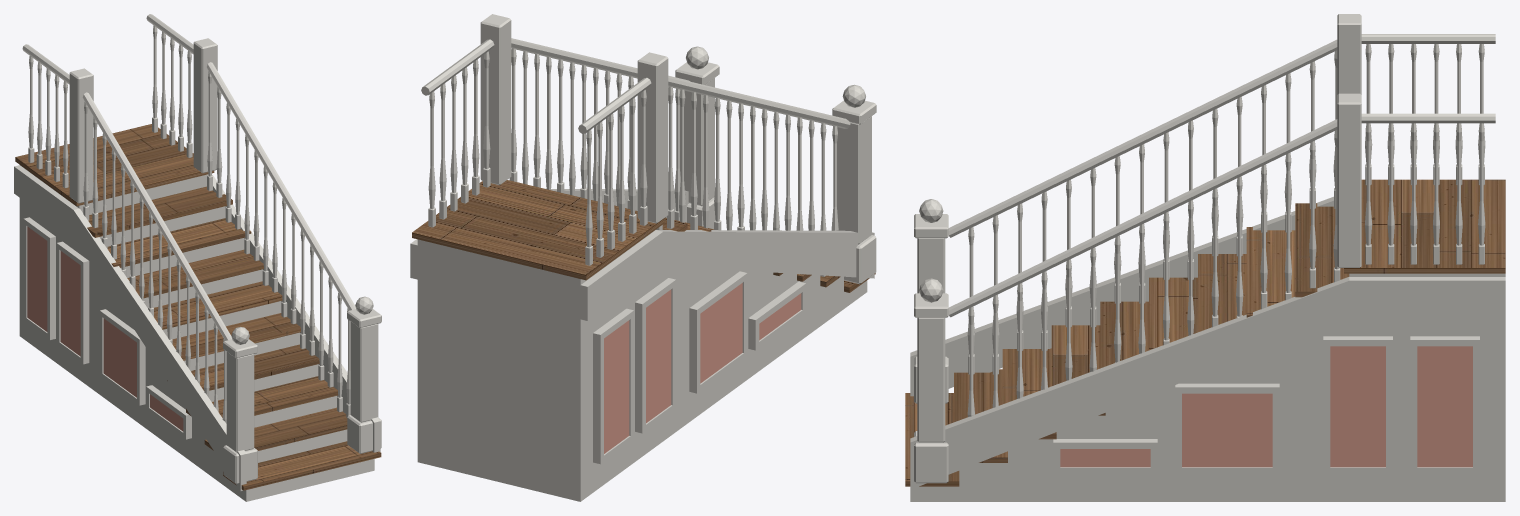
File: back_stoop_a.glb
3 renders of one model, left to right at view 1: azimuth 30°, elevation 25°; view 2: azimuth 150°, elevation 25°; view 3: azimuth 270°, elevation 25°, orthographic. The views are drawn at different scales.
Visible parts, largest first — view 1: back_stoop_a_trim, back_stoop_a_deck, back_stoop_a_acc_a; view 2: back_stoop_a_trim, back_stoop_a_deck, back_stoop_a_acc_a; view 3: back_stoop_a_trim, back_stoop_a_deck, back_stoop_a_acc_a.
Boxes of the visible parts, x1=… form: back_stoop_a_trim: x1=14, y1=14, x2=381, y2=501; back_stoop_a_deck: x1=15, y1=124, x2=381, y2=490; back_stoop_a_acc_a: x1=27, y1=226, x2=183, y2=431; back_stoop_a_trim: x1=410, y1=14, x2=876, y2=501; back_stoop_a_deck: x1=412, y1=180, x2=875, y2=292; back_stoop_a_acc_a: x1=604, y1=283, x2=801, y2=453; back_stoop_a_trim: x1=910, y1=14, x2=1505, y2=501; back_stoop_a_deck: x1=905, y1=179, x2=1505, y2=486; back_stoop_a_acc_a: x1=1060, y1=346, x2=1472, y2=467.
Size of the model in its own units: 1.28 by 2.55 by 3.45.
Materials: 3 (1 with a texture image).
